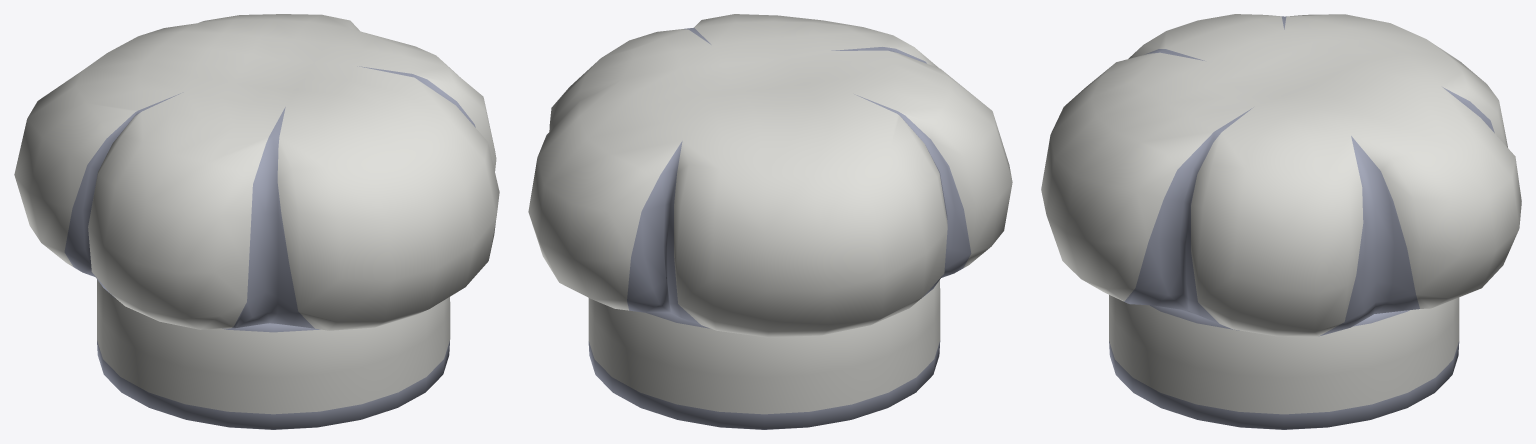
File: chef hat 1.fbx
The picture shows the model from 3 angles, left to right: view 1: azimuth 30°, elevation 25°; view 2: azimuth 150°, elevation 25°; view 3: azimuth 270°, elevation 25°; orthographic projection.
Parts seen in each view (by area): view 1: Cylinder.002; view 2: Cylinder.002; view 3: Cylinder.002.
Boxes of the visible parts, box(x1,y1,x2,y2) form: Cylinder.002: box(14, 14, 499, 429); Cylinder.002: box(528, 14, 1012, 429); Cylinder.002: box(1041, 14, 1521, 429).
Bounding box in the file's own units: 937 × 635 × 967.
